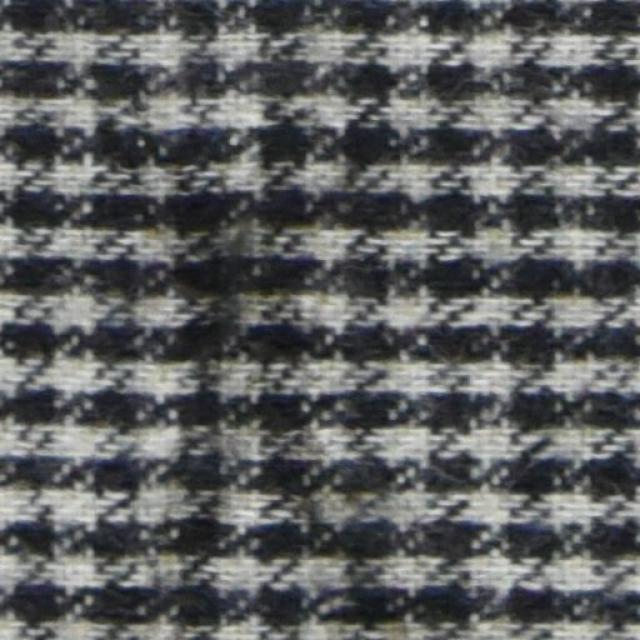Stain: (169, 155, 301, 371)
